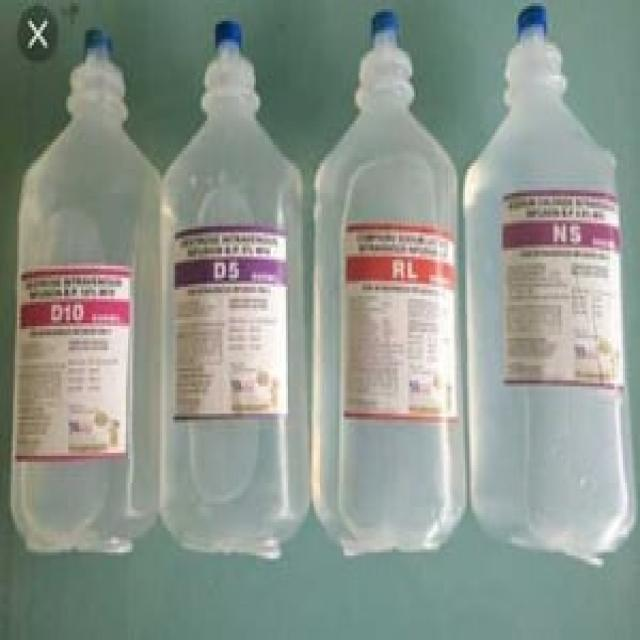B3: (466, 10, 640, 574), (314, 15, 470, 594), (10, 33, 166, 581), (169, 24, 313, 559)
